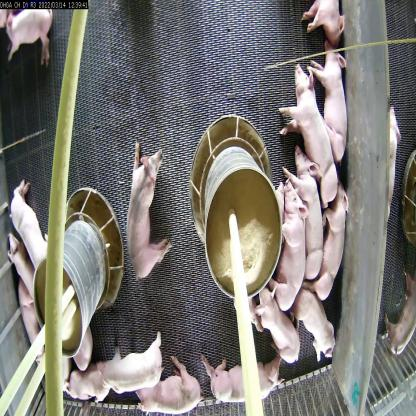Pig: (278, 61, 336, 201), (125, 138, 173, 281), (281, 146, 330, 282), (310, 38, 353, 165), (273, 172, 307, 307), (201, 350, 284, 404), (315, 176, 348, 304), (101, 330, 165, 396), (138, 354, 205, 416), (288, 284, 340, 363), (6, 176, 50, 266), (256, 290, 302, 372), (64, 362, 112, 412), (8, 230, 40, 299)
